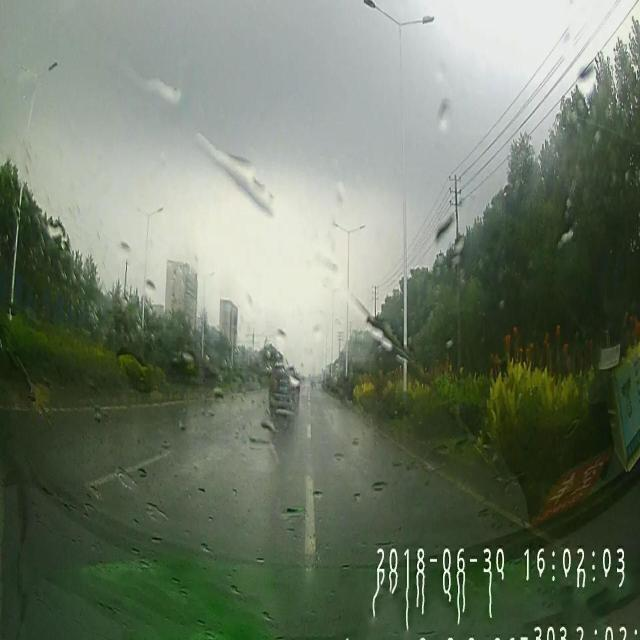car: (266, 362, 300, 414)
